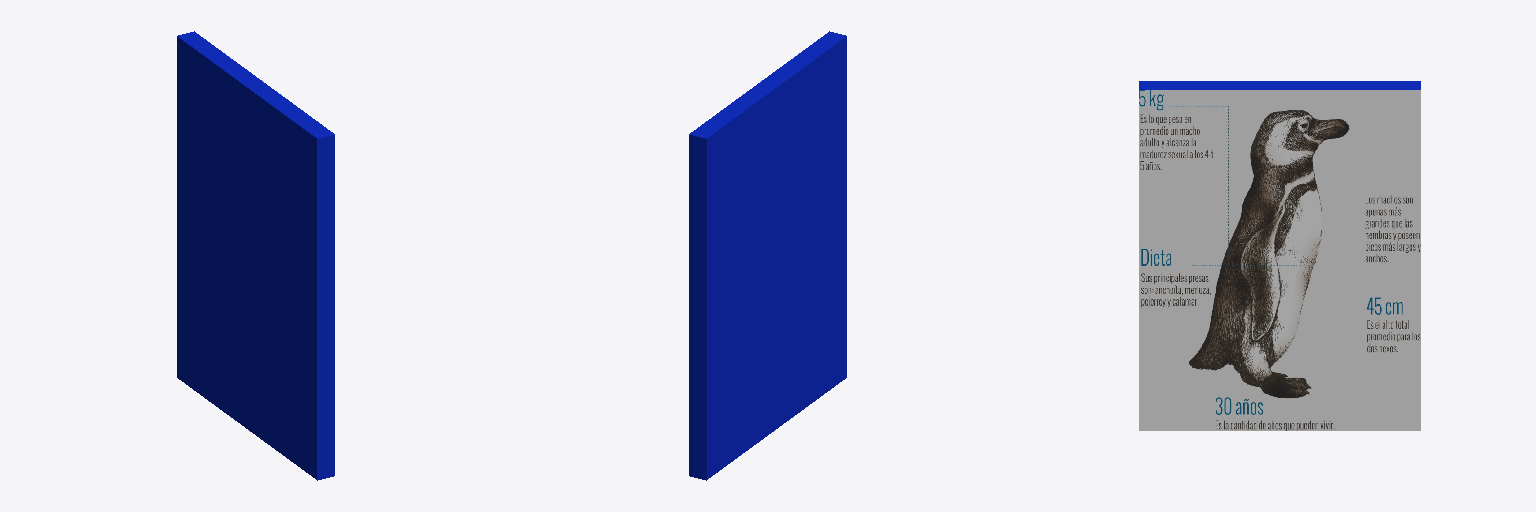
3 renders of one model, left to right at view 1: azimuth 30°, elevation 25°; view 2: azimuth 150°, elevation 25°; view 3: azimuth 270°, elevation 25°, orthographic.
Visible parts, largest first — view 1: cartel.002_Cube.002; view 2: cartel.002_Cube.002; view 3: cartel.002_Cube.002.
Part boxes in pixels (x1,y1,x2,y2): cartel.002_Cube.002: (177, 31, 334, 480); cartel.002_Cube.002: (689, 31, 846, 480); cartel.002_Cube.002: (1139, 81, 1420, 430).
Size of the model in its own units: 0.1469 by 2.68 by 2.
2 materials, 1 textured.